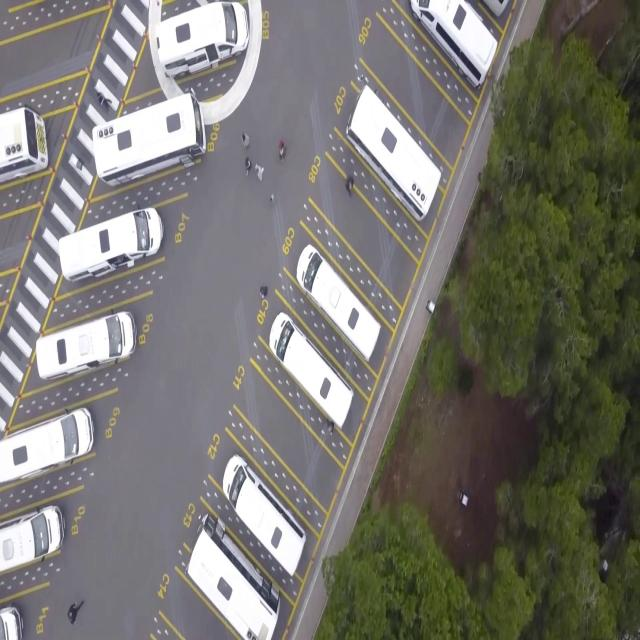people: (68, 598, 85, 626), (97, 92, 112, 111), (346, 176, 355, 196), (255, 163, 264, 182), (242, 132, 250, 150), (245, 158, 252, 176), (260, 285, 268, 299), (279, 142, 284, 161), (270, 194, 274, 201)
